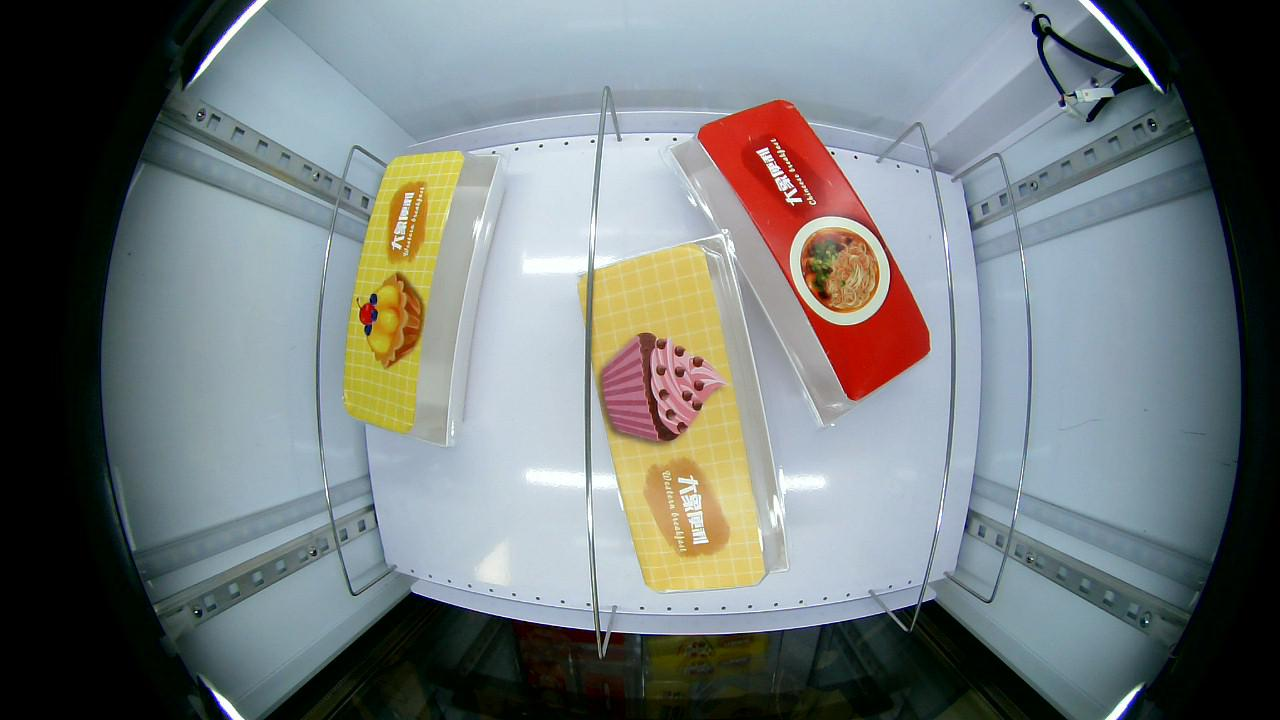goods: (592, 325, 729, 451), (788, 212, 891, 333), (353, 266, 429, 369)
